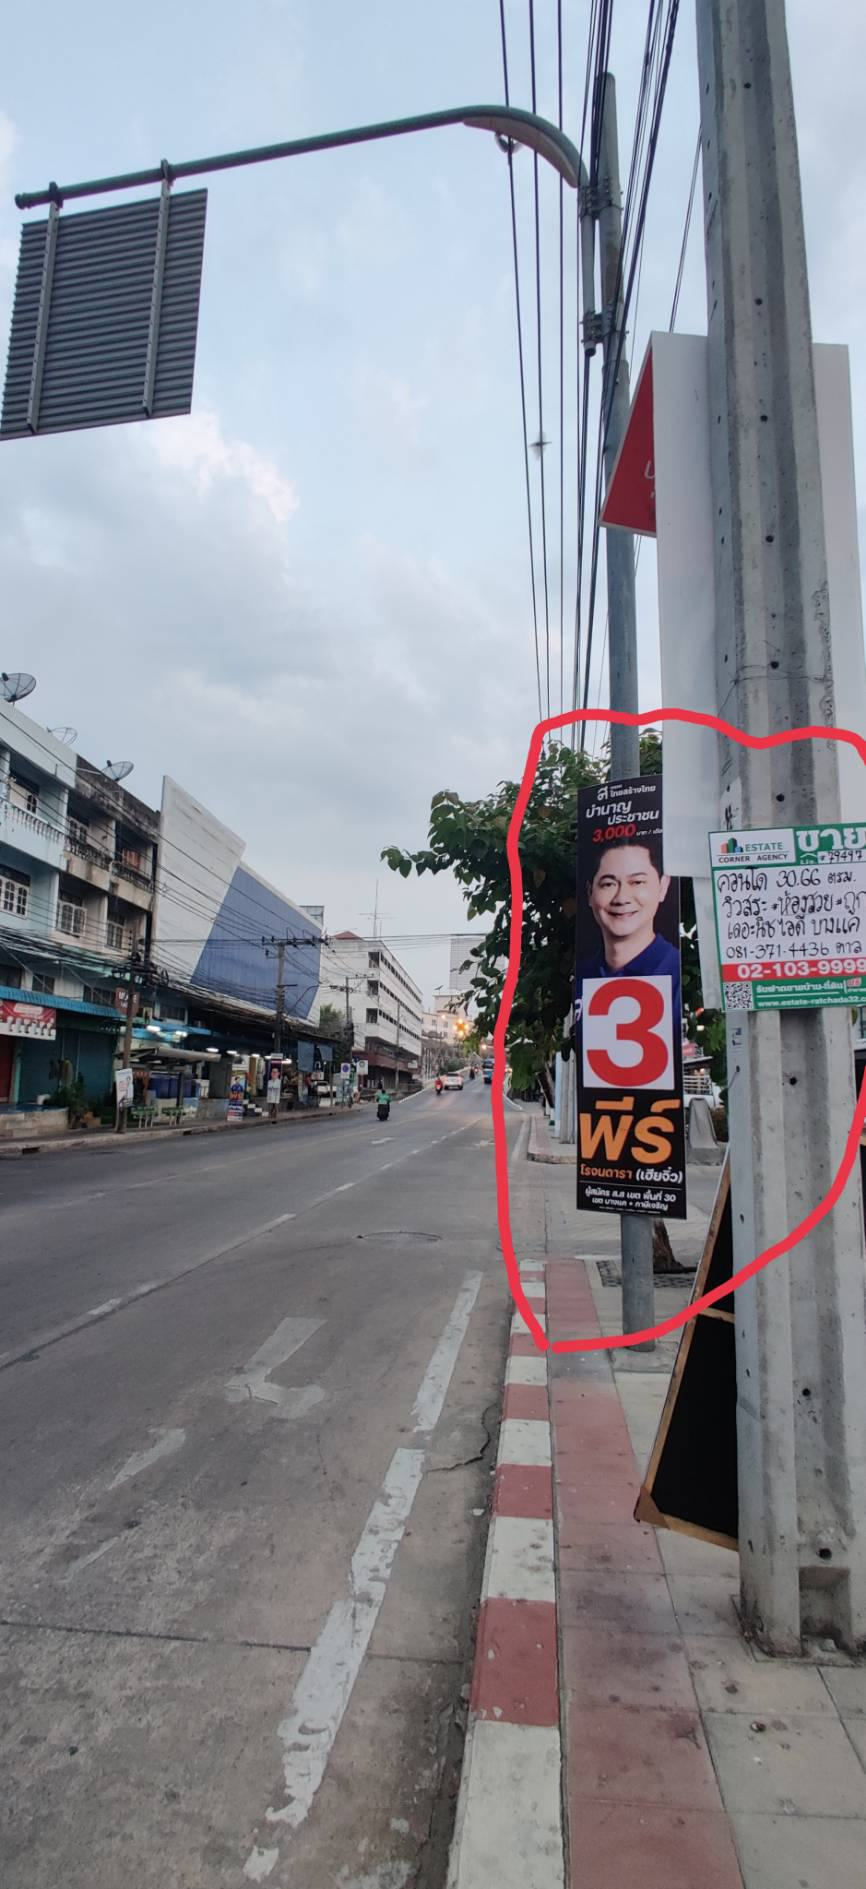Banner: (556, 769, 693, 1230)
